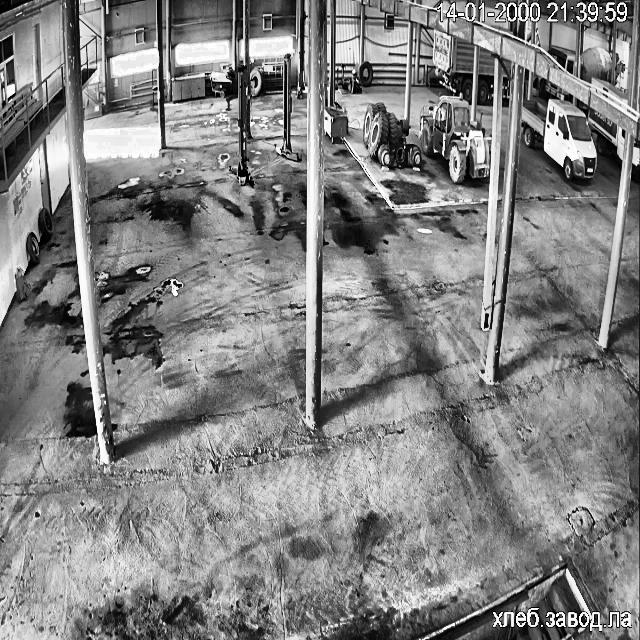car lift: (229, 65, 252, 185), (275, 52, 300, 161)
fire extinguisher: (16, 268, 24, 300)
tractor: (420, 96, 489, 181), (363, 102, 420, 166)
truck: (521, 100, 596, 180), (432, 28, 474, 100), (588, 108, 624, 156), (580, 46, 620, 82), (477, 49, 494, 102), (592, 78, 628, 102), (548, 45, 574, 73), (538, 78, 572, 99), (632, 140, 640, 179), (616, 126, 624, 161), (500, 76, 508, 97), (504, 60, 510, 76)
